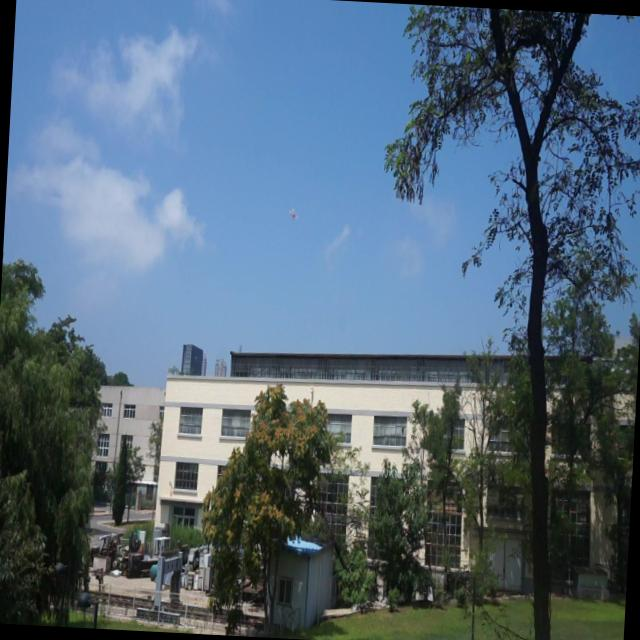drone: (288, 204, 300, 224)
